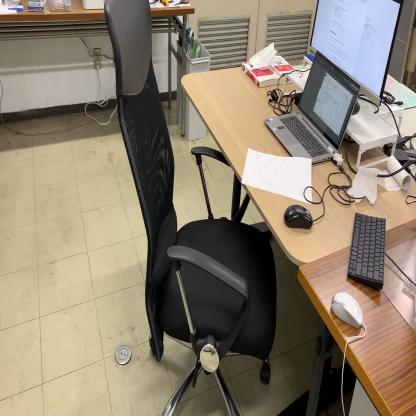chair: (103, 3, 276, 416)
